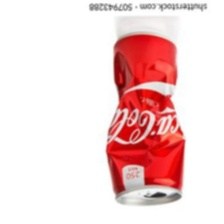can: (100, 26, 188, 206)
